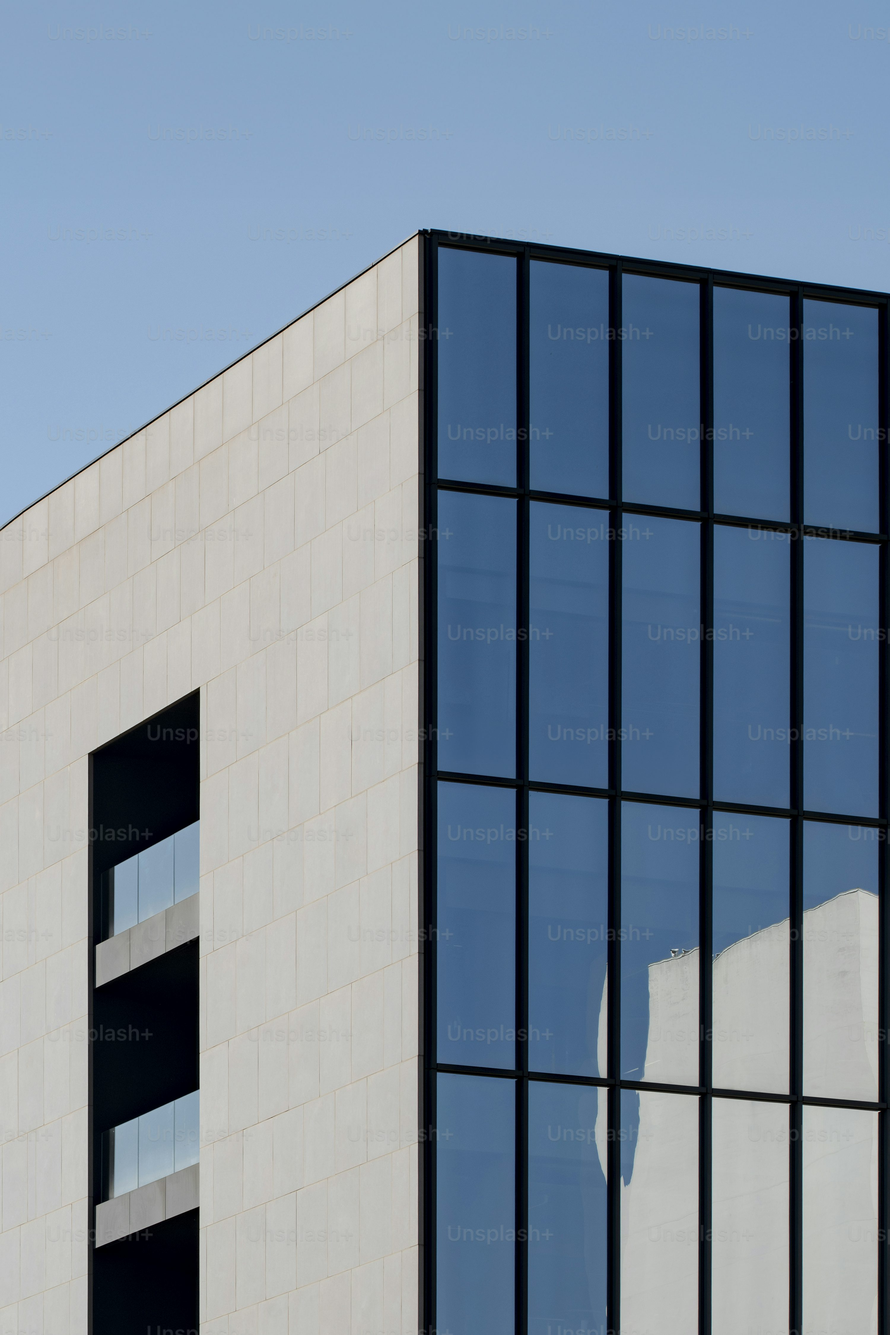glass_panel: (528, 792, 608, 1076), (620, 515, 700, 796), (529, 503, 608, 787), (438, 492, 516, 777), (438, 783, 516, 1068), (621, 802, 699, 1085), (712, 811, 789, 1093), (804, 822, 882, 1100), (714, 526, 791, 807), (435, 1074, 516, 1335), (804, 538, 879, 816), (619, 1090, 699, 1335), (529, 1082, 606, 1335), (619, 274, 701, 510), (530, 261, 609, 497), (438, 247, 516, 485), (712, 1099, 788, 1335), (713, 287, 789, 519), (803, 1106, 878, 1335), (805, 300, 879, 531), (138, 836, 174, 921), (138, 1102, 174, 1186), (108, 1118, 139, 1196), (109, 854, 139, 934), (174, 1091, 199, 1171), (174, 822, 199, 902)
